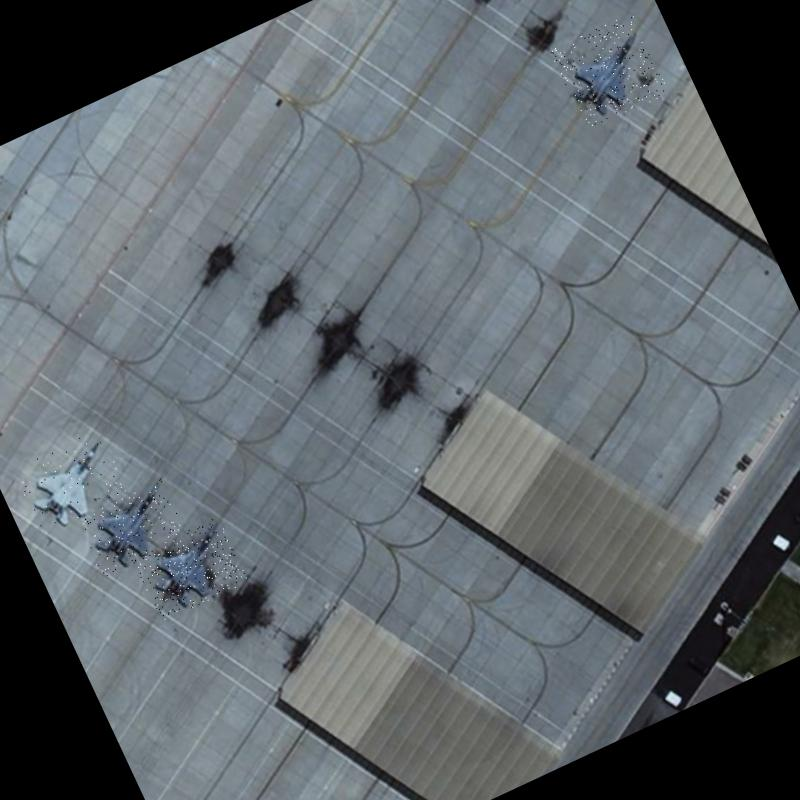A13: (549, 12, 669, 131), (131, 515, 248, 622), (11, 427, 128, 532), (74, 476, 188, 578)
